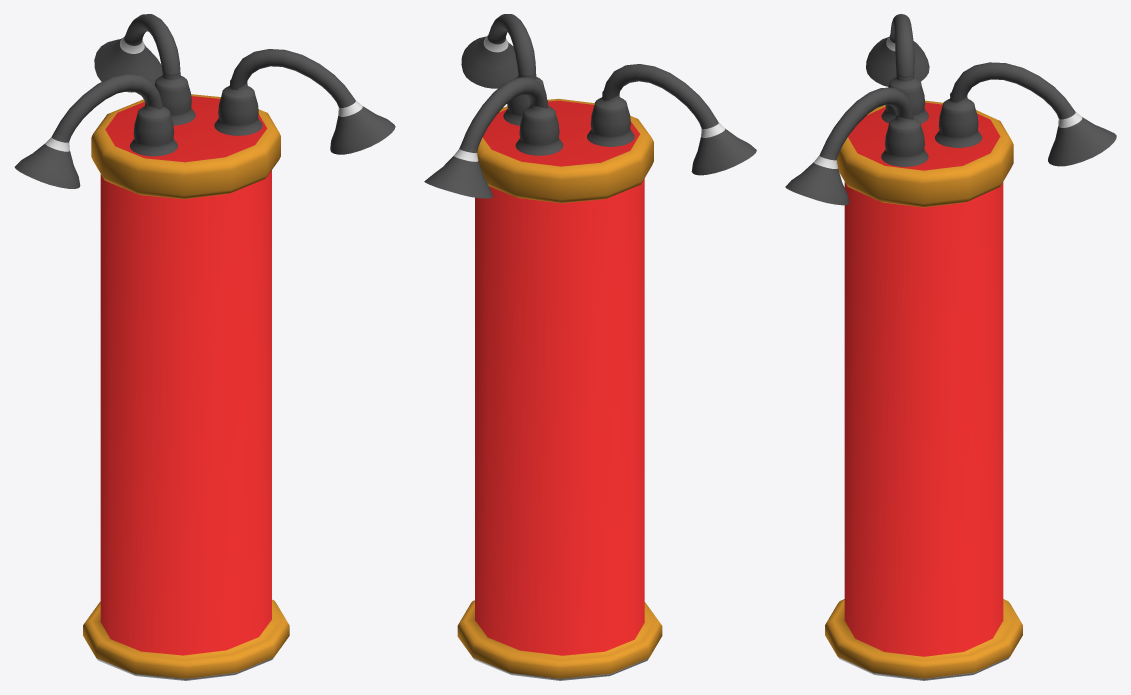
The model's file is ykanma_engeli3.fbx.
The picture shows the model from 3 angles, left to right: view 1: azimuth 30°, elevation 25°; view 2: azimuth 150°, elevation 25°; view 3: azimuth 270°, elevation 25°; orthographic projection.
Parts seen in each view (by area): view 1: yıkanma engeli; view 2: yıkanma engeli; view 3: yıkanma engeli.
Part boxes in pixels (x1,y1,x2,y2): yıkanma engeli: (14, 14, 395, 680); yıkanma engeli: (424, 14, 756, 680); yıkanma engeli: (785, 14, 1116, 680).
Size of the model in its own units: 2008 by 3426 by 1769.
